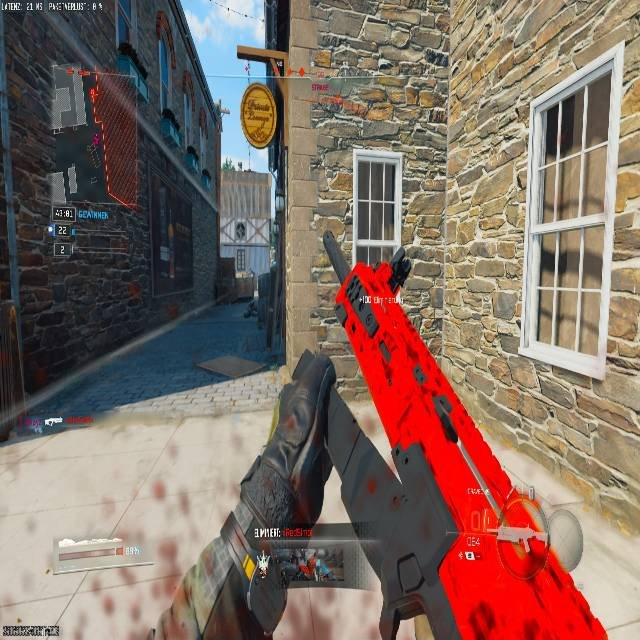player: (241, 294, 259, 319)
